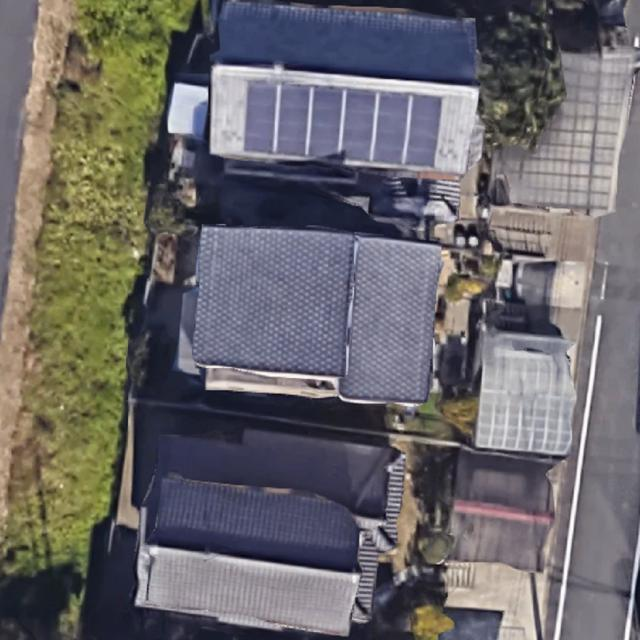Batiment: (136, 430, 405, 635), (210, 3, 479, 174), (192, 227, 441, 403)
